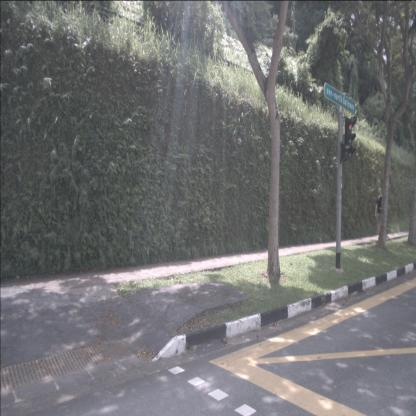human-pedestrian-adult: (375, 188, 385, 240)
